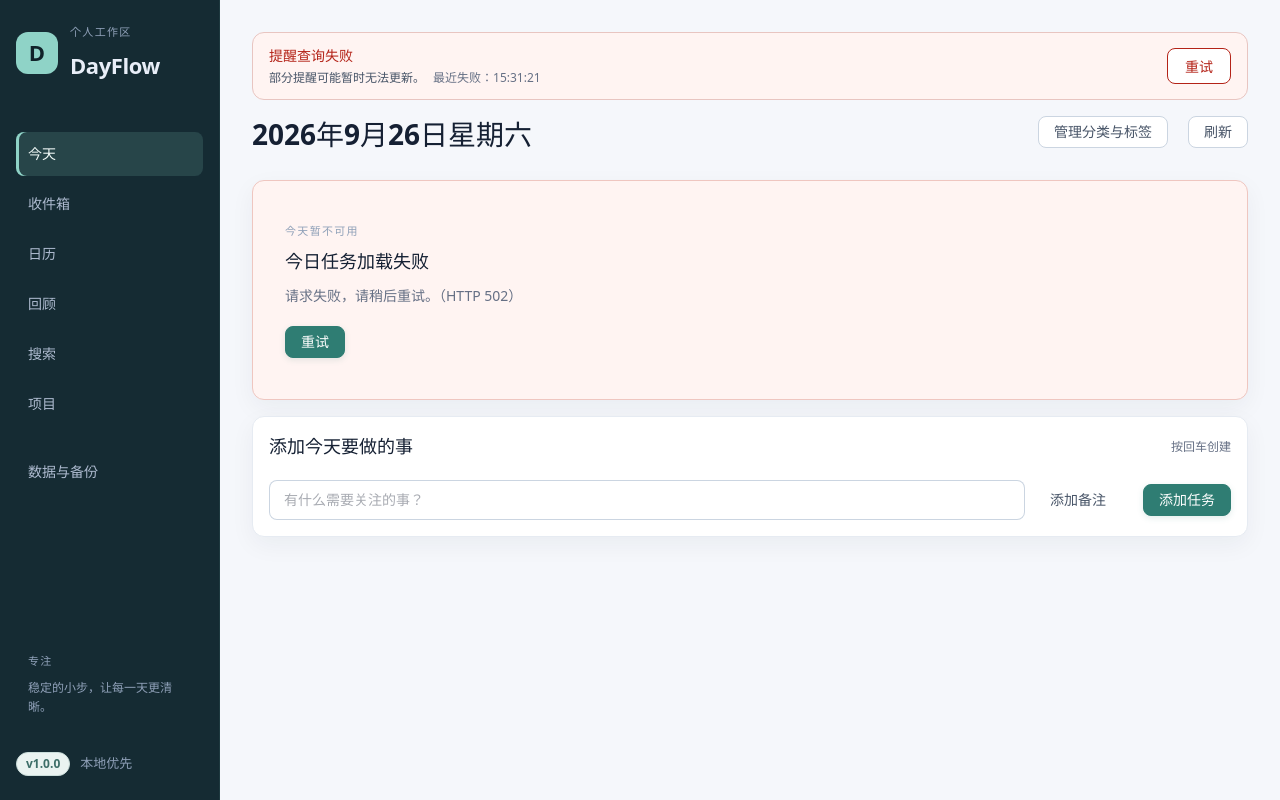
it: Today load state › shows an error state with Retry and loads normal content after retry
The image size is (1280, 800).
Expected: the message "今天暂不可用 今日任务加载失败 请求失败，请稍后重试。（HTTP 502） 重试" is shown, [252,180,1248,400]
Step 1. Click the button "重试" below "请求失败，请稍后重试。（HTTP 502）" → click(315, 342), box [285,326,345,358]
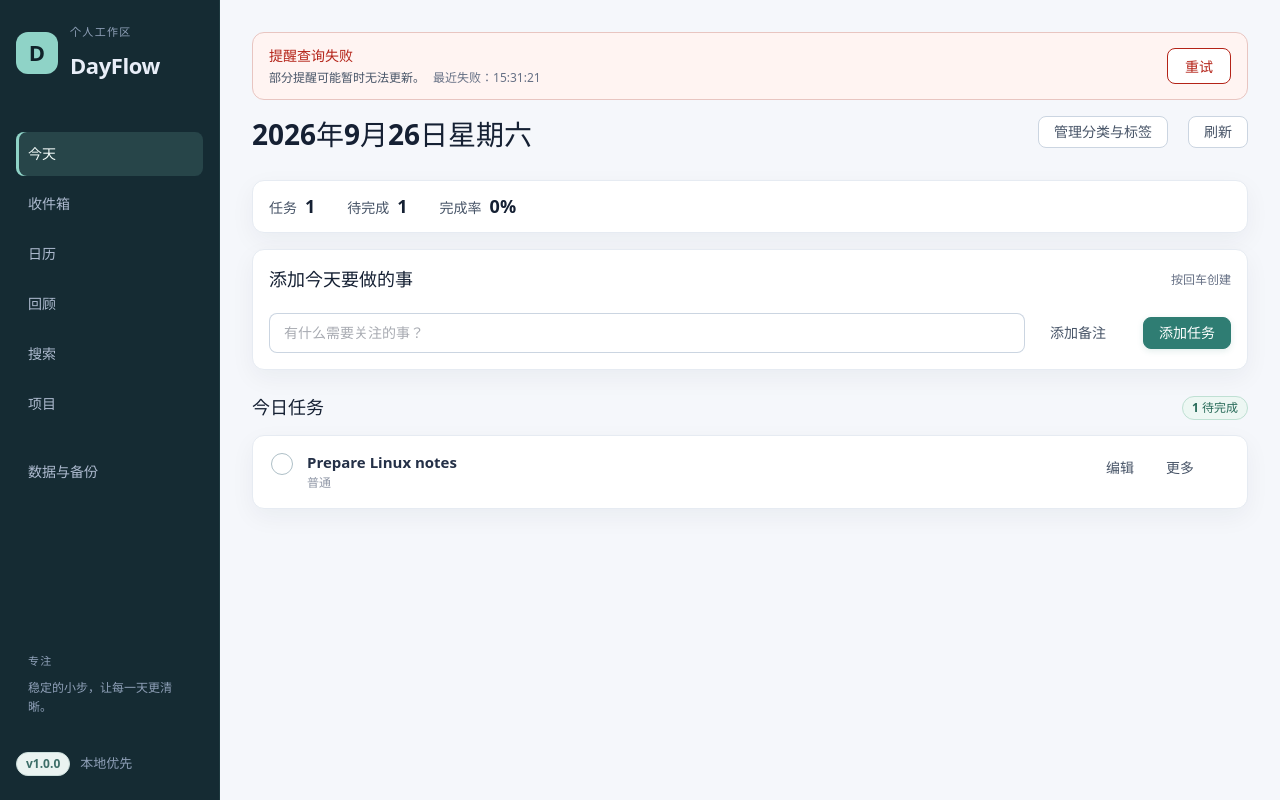
Result: the element with class "summary-grid" is shown at [252,180,1248,233]
Result: the text "Prepare Linux notes" is shown at [307,452,457,474]
